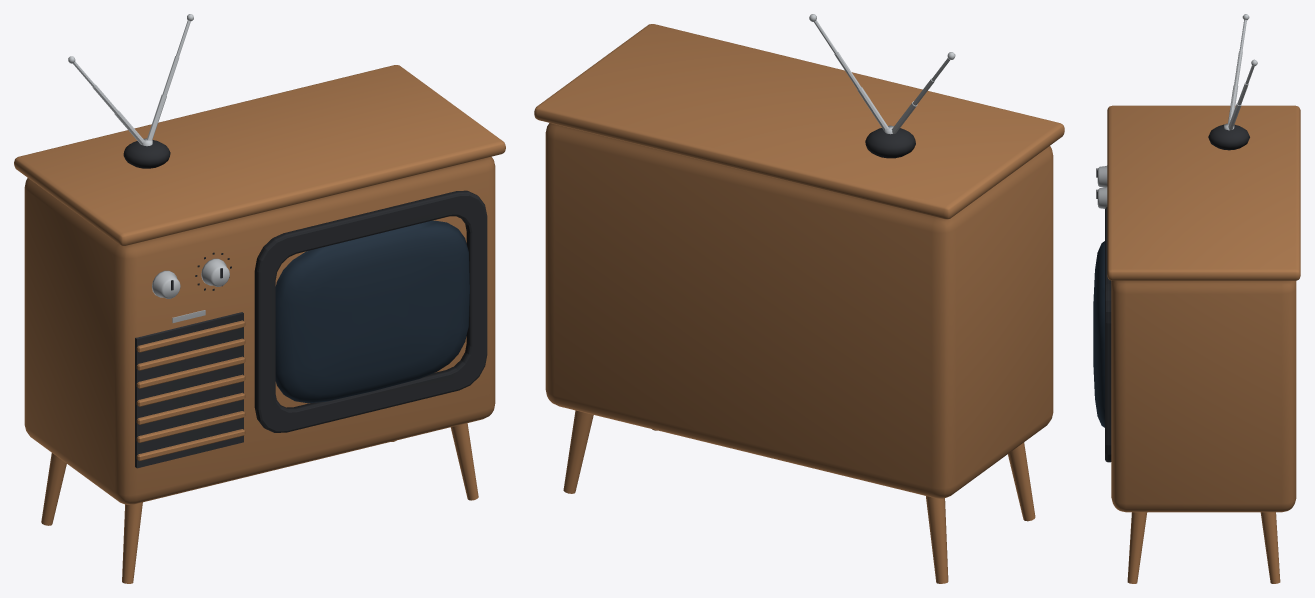
Rendered from tvRetro.glb.
3 renders of one model, left to right at view 1: azimuth 30°, elevation 25°; view 2: azimuth 150°, elevation 25°; view 3: azimuth 270°, elevation 25°, orthographic. The views are drawn at different scales.
Visible parts, largest first — view 1: tvRetro, ears; view 2: tvRetro, ears; view 3: tvRetro, ears.
Part boxes in pixels (x1,y1,x2,y2): tvRetro: [14, 65, 505, 583]; ears: [68, 14, 193, 146]; tvRetro: [534, 24, 1064, 583]; ears: [809, 14, 955, 134]; tvRetro: [1093, 105, 1300, 583]; ears: [1224, 14, 1257, 130].
Bounding box in the file's own units: 0.94 × 1.13 × 0.493.
